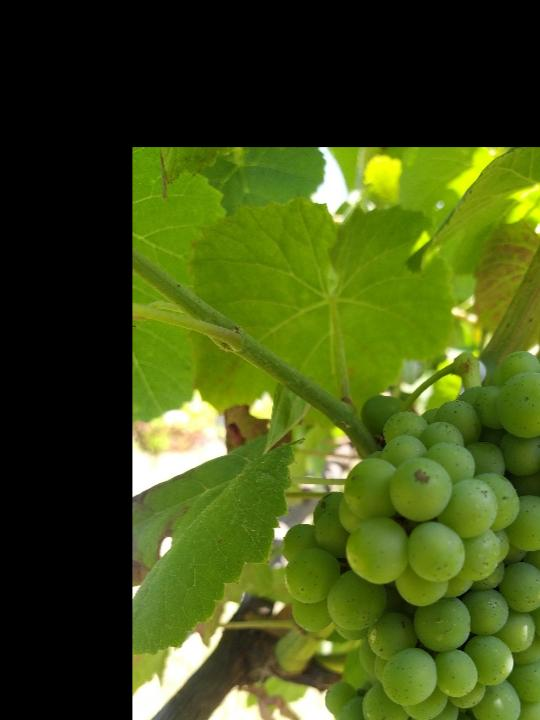grape: (278, 343, 540, 720)
